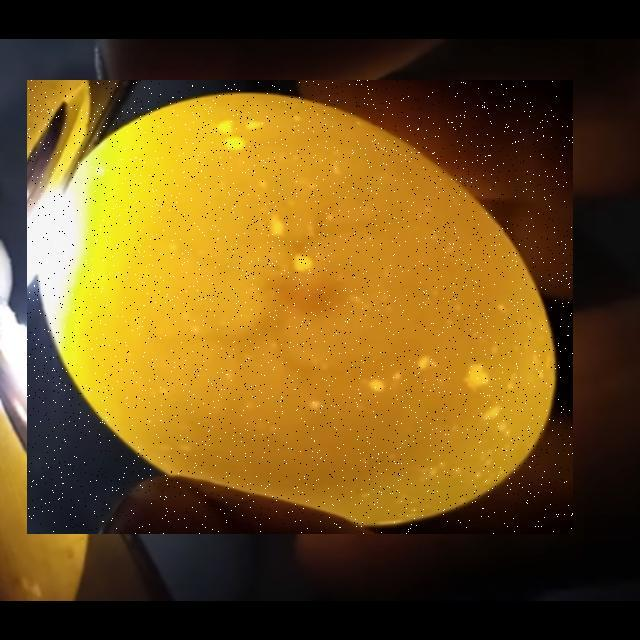Fertile: (27, 80, 573, 534)
